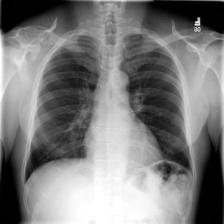normal: (21, 28, 199, 184)
